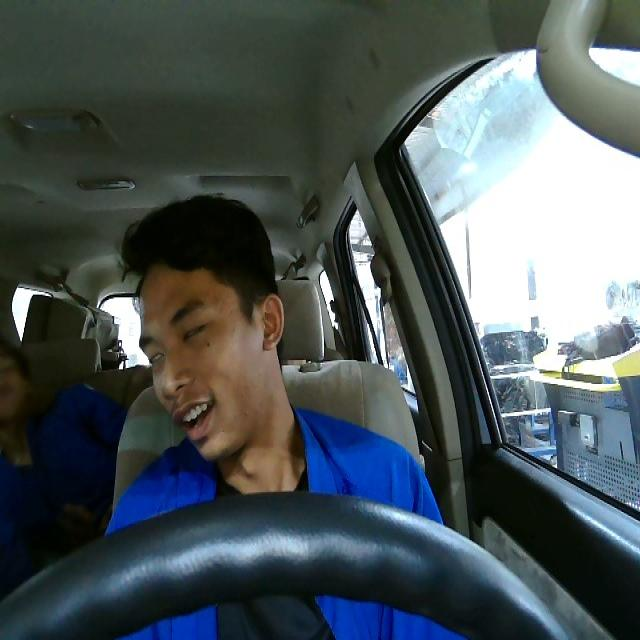yarning: (136, 267, 284, 461)
